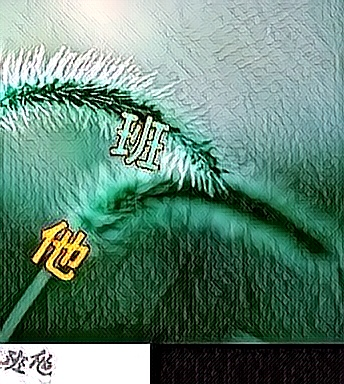B0E0: (105, 110, 170, 174)
CBFB: (27, 218, 92, 282)
